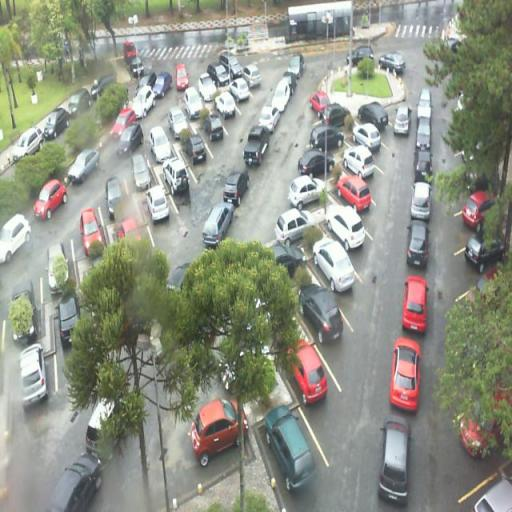Illegal-parking: (382, 406, 420, 510), (383, 327, 427, 410), (400, 266, 436, 338), (403, 217, 433, 265), (408, 183, 436, 222), (404, 151, 436, 182), (306, 89, 335, 118)
Slot-occupied: (248, 402, 330, 500), (271, 333, 336, 409), (288, 281, 348, 347), (302, 241, 366, 297), (6, 345, 59, 411), (322, 209, 374, 255), (323, 172, 382, 210), (270, 206, 318, 246), (299, 120, 349, 152), (280, 174, 326, 208), (293, 151, 345, 177), (340, 146, 380, 178), (349, 123, 386, 150), (352, 104, 387, 128)
